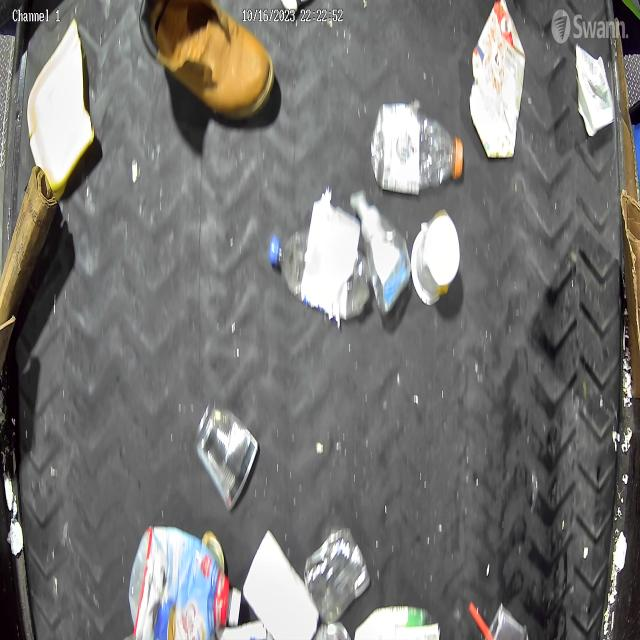can: (194, 400, 260, 514), (303, 524, 370, 622)
non_white_jug: (469, 0, 526, 159)
plastic_bottle: (269, 221, 370, 320), (370, 104, 462, 194)
